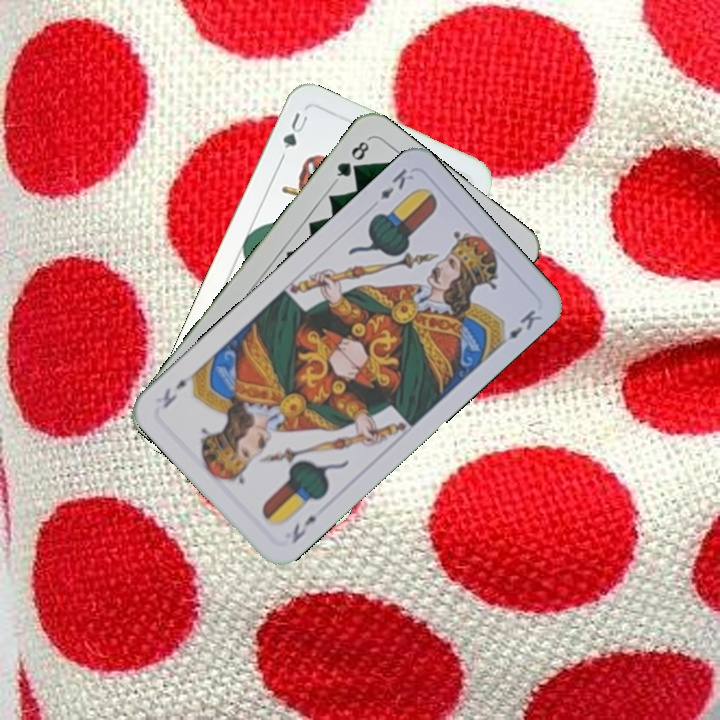EK: (376, 164, 417, 203), (287, 511, 320, 546)
G8: (331, 135, 372, 185)
GU: (278, 108, 312, 152)
